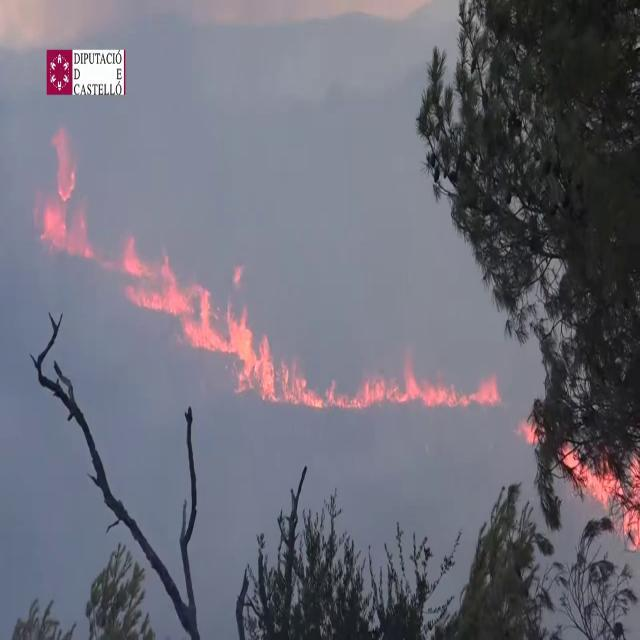Fire: (226, 322, 459, 412), (122, 237, 253, 367), (559, 436, 640, 547), (42, 123, 92, 258)
